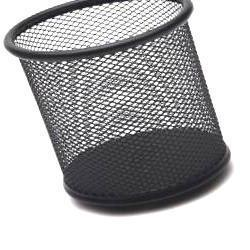Bote de Basura: (3, 0, 222, 203)
